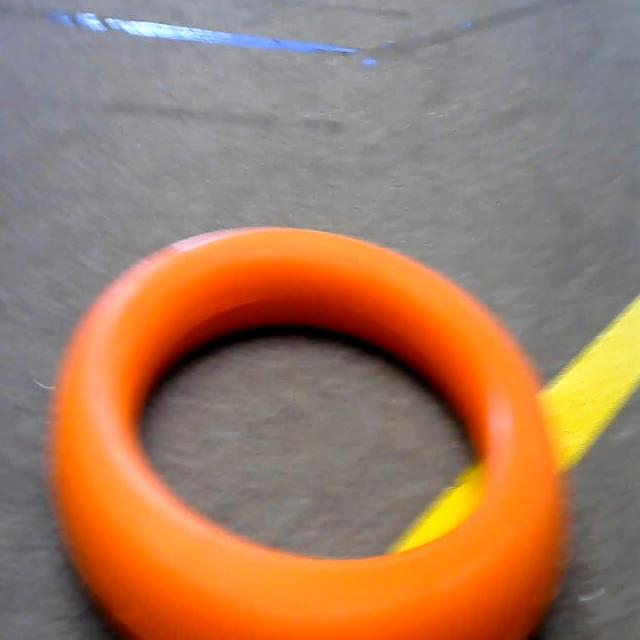note: (44, 208, 569, 640)
